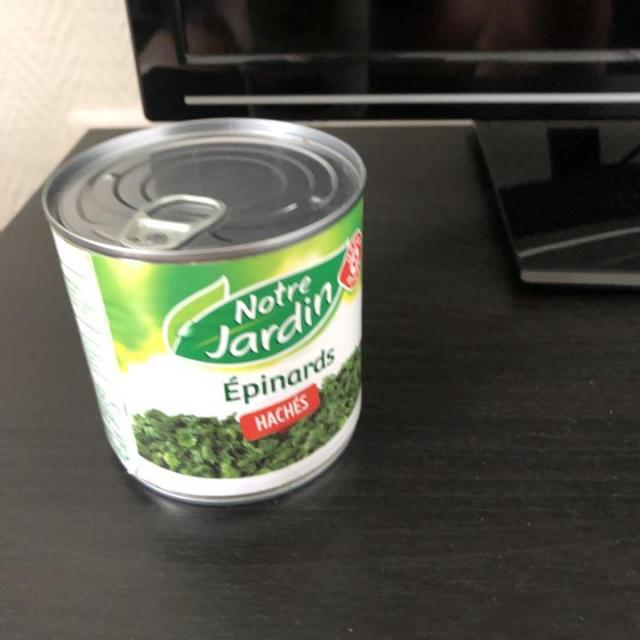metal-can: (40, 113, 367, 507)
